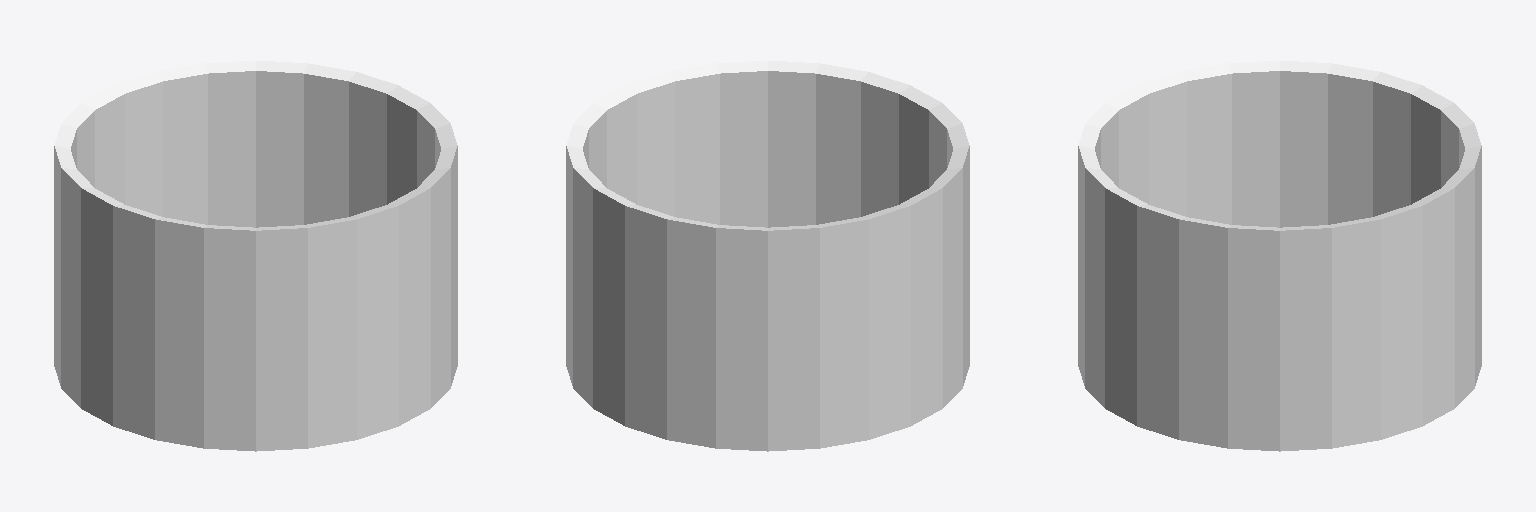
The model's file is Auriga_DrogueParachute_1_Fairing.obj.
3 renders of one model, left to right at view 1: azimuth 30°, elevation 25°; view 2: azimuth 150°, elevation 25°; view 3: azimuth 270°, elevation 25°, orthographic.
Parts seen in each view (by area): view 1: Auriga_DrogueParachute_1_Fairing; view 2: Auriga_DrogueParachute_1_Fairing; view 3: Auriga_DrogueParachute_1_Fairing.
Part boxes in pixels (x1,y1,x2,y2): Auriga_DrogueParachute_1_Fairing: (54,60,457,451); Auriga_DrogueParachute_1_Fairing: (566,60,969,451); Auriga_DrogueParachute_1_Fairing: (1078,60,1481,451).
Size of the model in its own units: 0.625 by 0.3775 by 0.625.